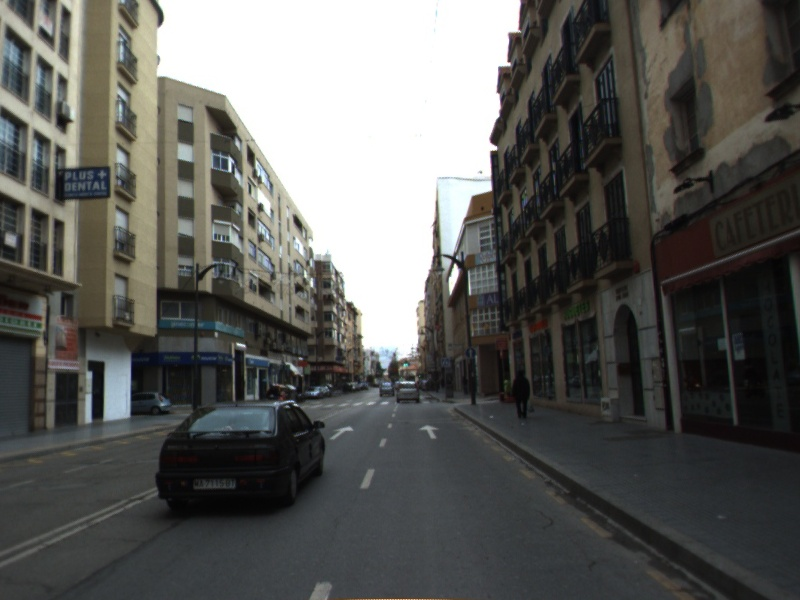STRAIGHT: (327, 424, 355, 441), (417, 423, 441, 440)
